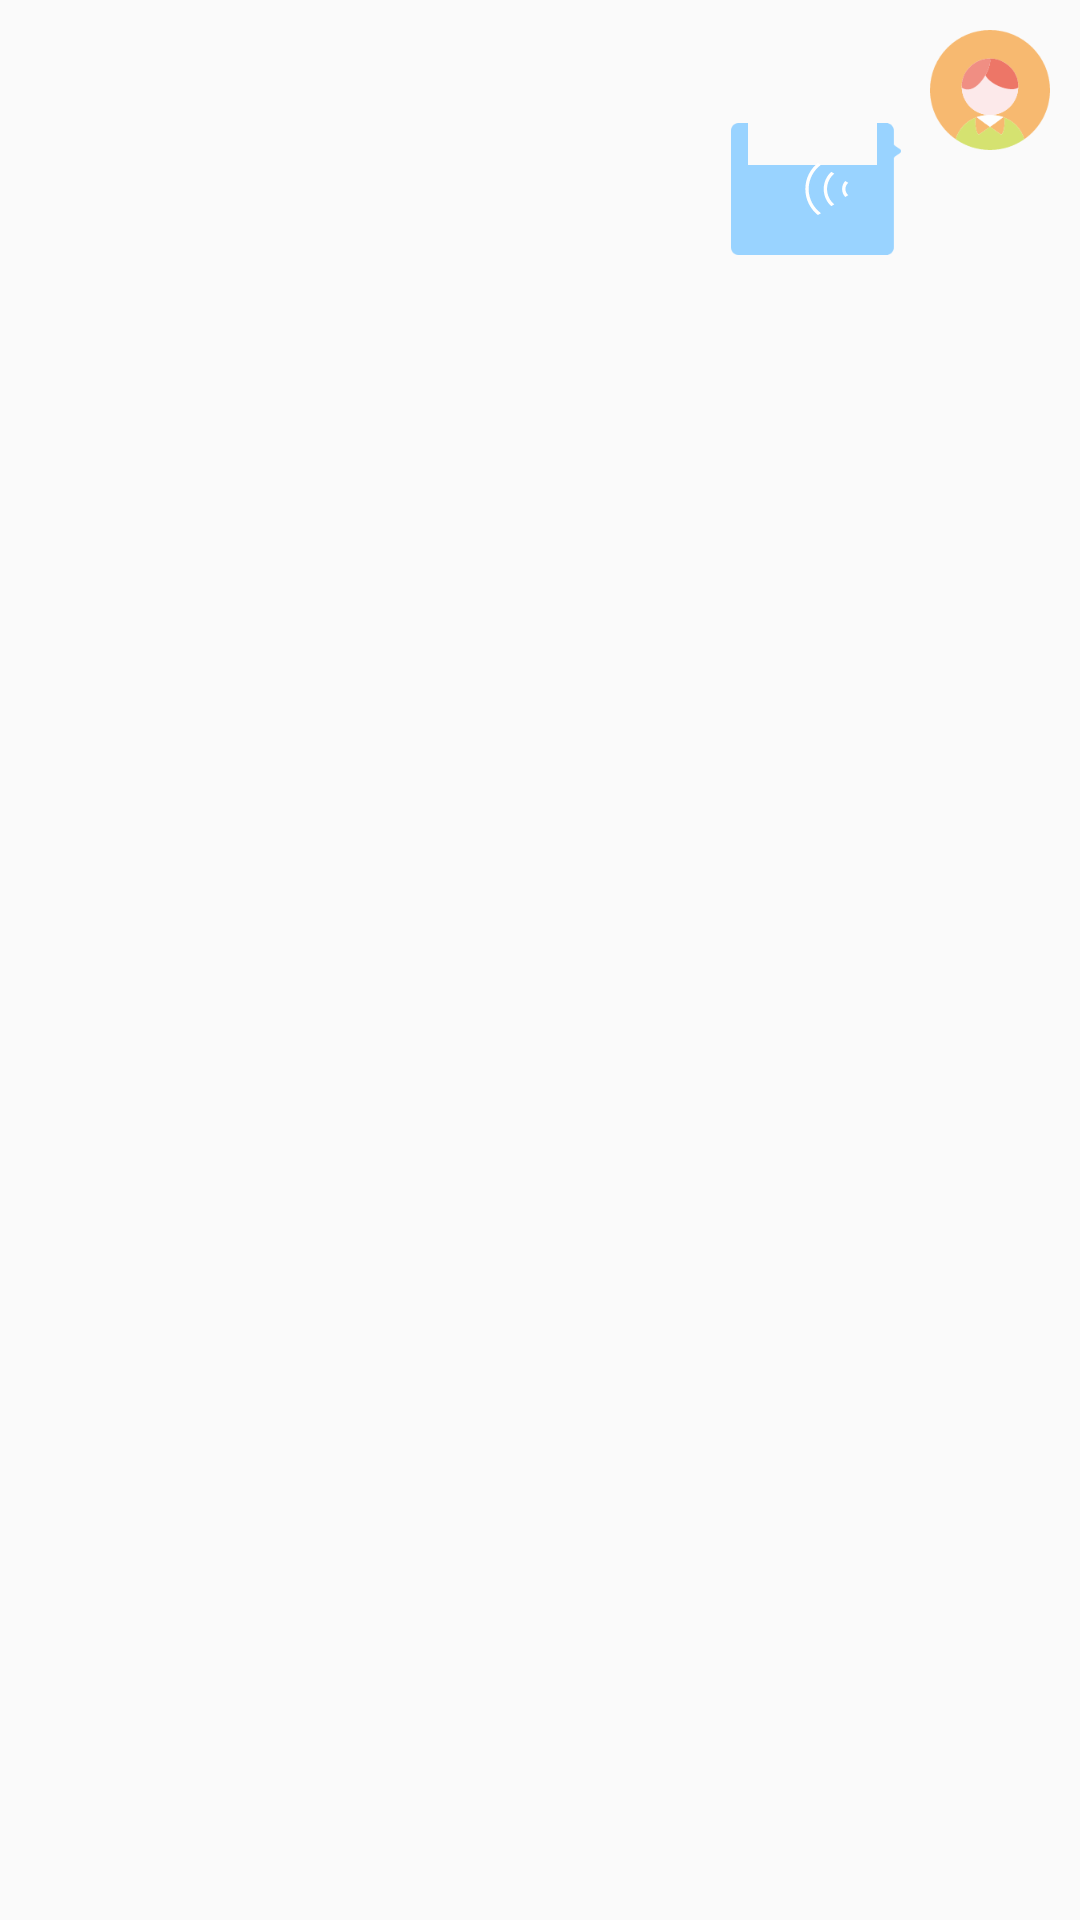

Locate icon controls on the screen. Image size 1080 x 1920, boxes as (x1,y1,x2,y2).
voice right: (797,159,857,215)
